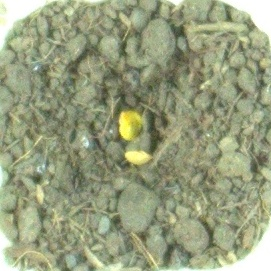pepper seed: (43, 65, 202, 233), (43, 38, 189, 180)
